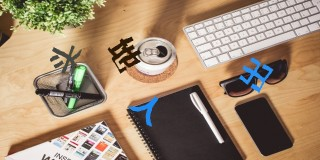人: (129, 96, 158, 127)
出: (239, 57, 273, 93)
地: (107, 37, 141, 74)
头: (49, 44, 81, 73)
